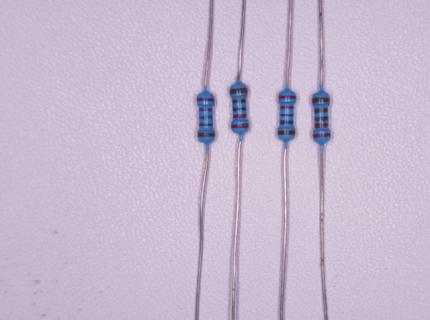Black band: (233, 107, 247, 111), (315, 117, 328, 121), (200, 116, 213, 119), (280, 114, 293, 116)
Brown band: (230, 88, 247, 94), (313, 97, 330, 103), (277, 130, 295, 135), (197, 133, 215, 137), (315, 108, 328, 113), (233, 99, 247, 103), (280, 120, 293, 124), (199, 123, 213, 126)
Red band: (314, 133, 330, 138), (231, 124, 248, 128), (279, 95, 295, 99), (314, 123, 328, 127), (234, 114, 246, 118), (199, 108, 212, 111), (280, 106, 293, 109), (197, 99, 215, 101)
